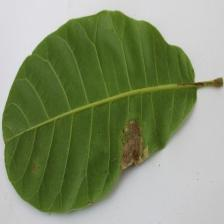leaf miner: (118, 117, 149, 170)
